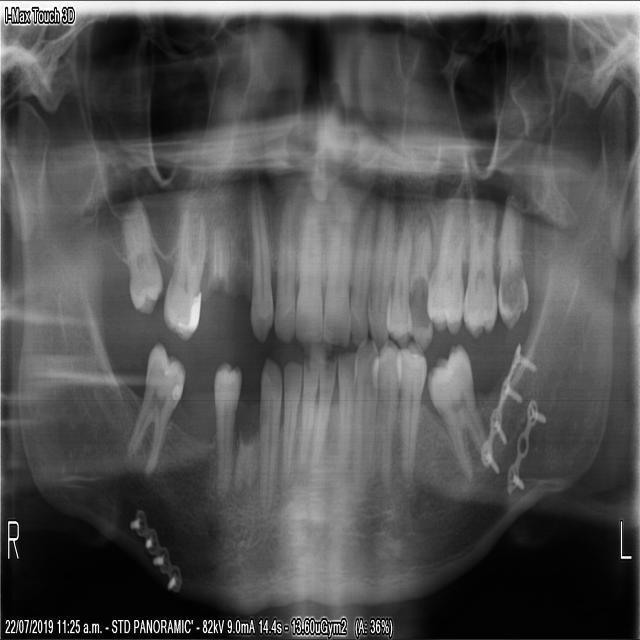LCD: (348, 340, 377, 494)
LCU: (368, 194, 401, 347)
LID: (334, 350, 357, 462), (314, 351, 334, 466)
LIU: (319, 198, 359, 347), (347, 202, 379, 345)
LMD: (424, 344, 493, 487)
LMU: (425, 194, 467, 334), (462, 204, 499, 342), (497, 213, 531, 333)
LPMD: (367, 335, 402, 486), (394, 341, 426, 476)
LPMU: (407, 202, 445, 348), (383, 205, 418, 348)
RCD: (256, 353, 281, 528)
RCU: (245, 191, 275, 349)
RID: (277, 356, 303, 488), (299, 351, 320, 465)
RIU: (294, 200, 326, 351), (271, 197, 301, 346)
RMD: (123, 333, 186, 489)
RMU: (119, 198, 162, 312)
RPMD: (210, 356, 241, 501)
RPMU: (161, 201, 208, 343)
